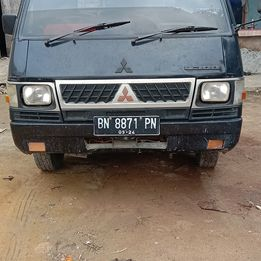plate: (93, 115, 161, 135)
